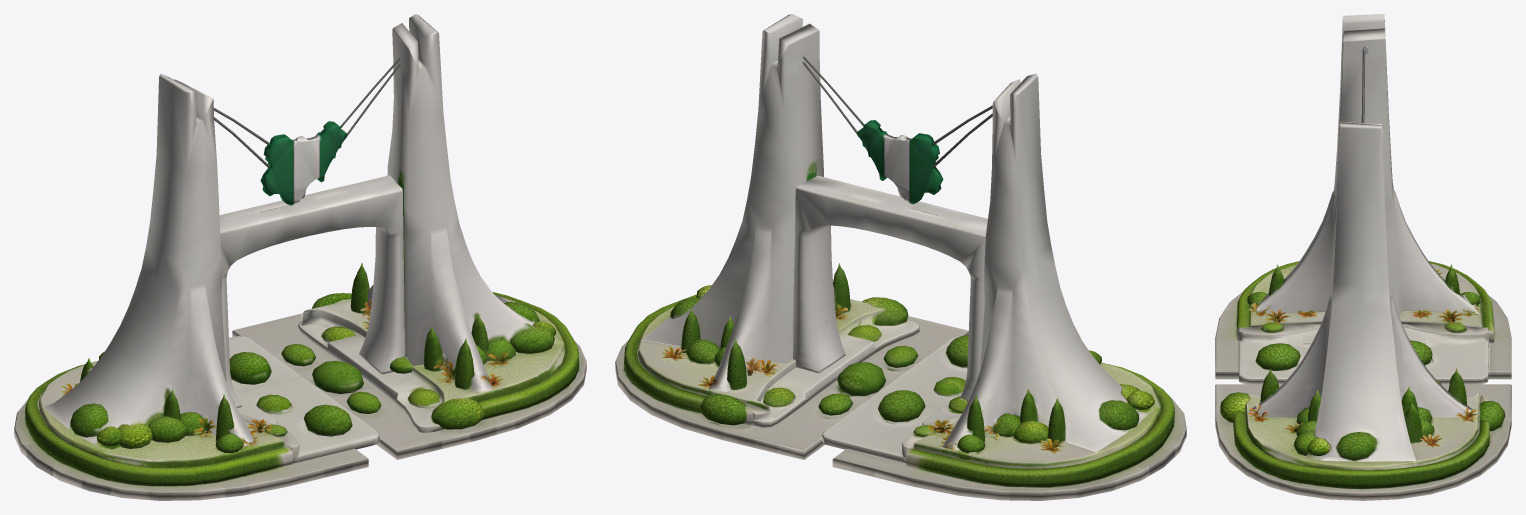
Rendered from gateway+monument+3d+model.fbx.
3 views of the same model, side by side, from view 1: azimuth 30°, elevation 25°; view 2: azimuth 150°, elevation 25°; view 3: azimuth 270°, elevation 25° (orthographic). The views are drawn at different scales.
Visible parts, largest first — view 1: tripo_28bdbf1f_ce2c_486d_af21_6c6b3d46a13f; view 2: tripo_28bdbf1f_ce2c_486d_af21_6c6b3d46a13f; view 3: tripo_28bdbf1f_ce2c_486d_af21_6c6b3d46a13f.
Boxes of the visible parts, x1,y1,x2,y2 form: tripo_28bdbf1f_ce2c_486d_af21_6c6b3d46a13f: (14,14,586,500); tripo_28bdbf1f_ce2c_486d_af21_6c6b3d46a13f: (615,14,1186,500); tripo_28bdbf1f_ce2c_486d_af21_6c6b3d46a13f: (1215,14,1511,500).
Size of the model in its own units: 0.9995 by 0.6382 by 0.5425.
